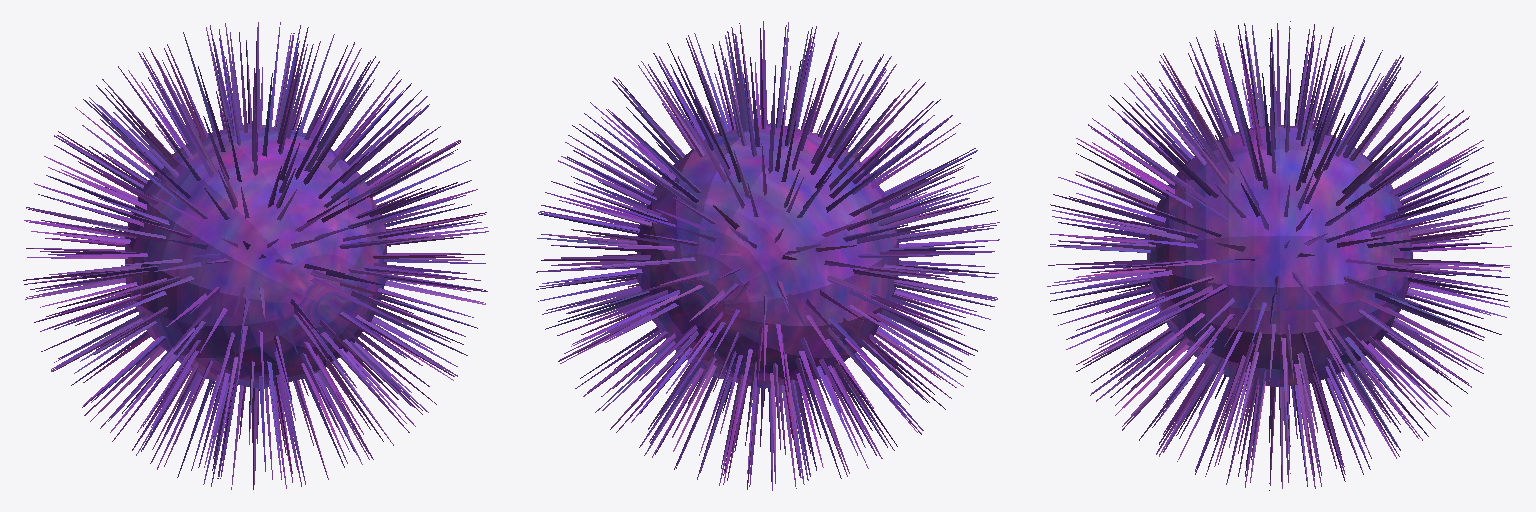
The picture shows the model from 3 angles: view 1: azimuth 30°, elevation 25°; view 2: azimuth 150°, elevation 25°; view 3: azimuth 270°, elevation 25°; orthographic projection.
Visible parts, largest first — view 1: Vertex_Sphere, Vertex_Object_1, Vertex_Object; view 2: Vertex_Sphere, Vertex_Object, Vertex_Object_1; view 3: Vertex_Sphere, Vertex_Object_1, Vertex_Object.
Boxes of the visible parts, x1,y1,x2,y2 form: Vertex_Sphere: [125, 123, 386, 388]; Vertex_Object_1: [23, 22, 488, 489]; Vertex_Object: [24, 22, 487, 489]; Vertex_Sphere: [637, 123, 898, 388]; Vertex_Object: [536, 21, 999, 490]; Vertex_Object_1: [536, 22, 999, 489]; Vertex_Sphere: [1147, 125, 1412, 386]; Vertex_Object_1: [1047, 23, 1512, 488]; Vertex_Object: [1050, 21, 1509, 490].
Bounding box in the file's own units: 42.99 × 42.91 × 42.91.
3 materials, 1 textured.